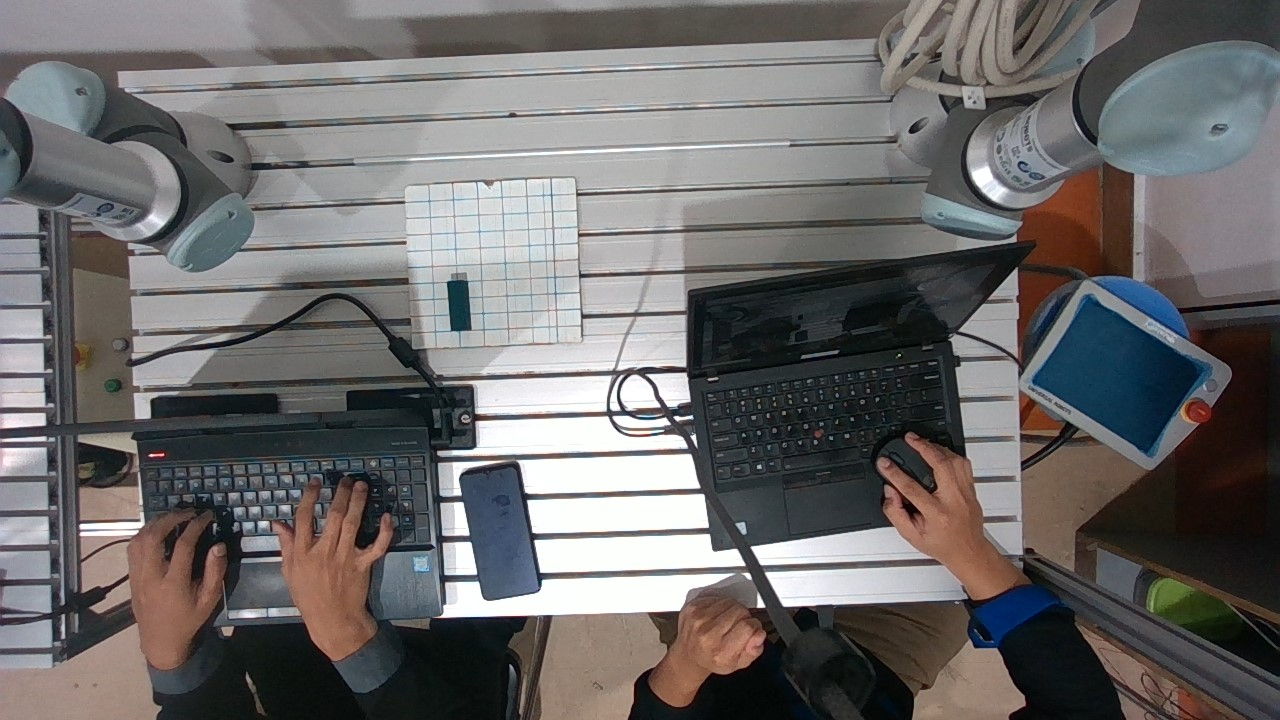box: (432, 267, 486, 340)
